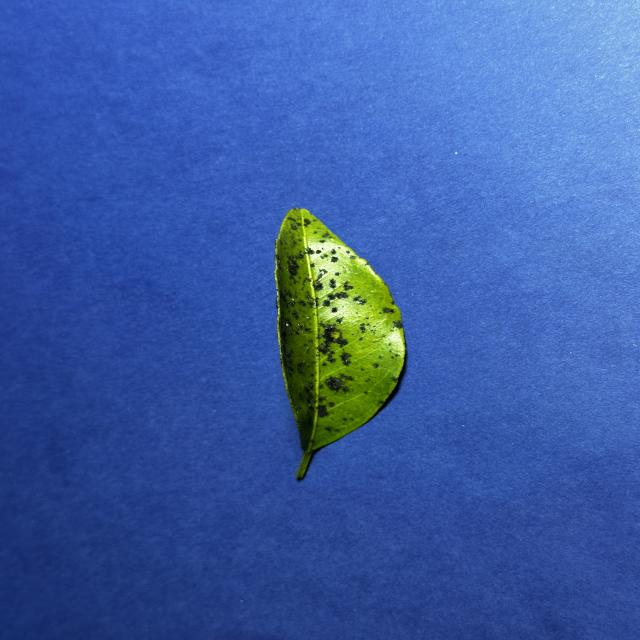sooty_mold: (274, 208, 405, 479)
